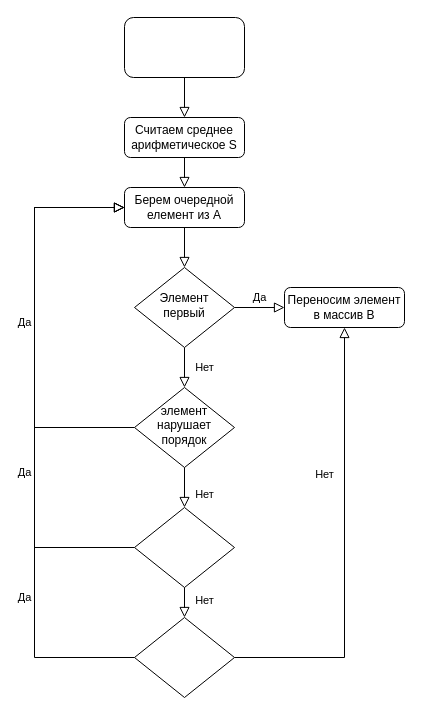
This 422x715 diagram has some shape labels left out. Here are the shapes that lost their labels. From the top down, the centre of each, then its label:
the point at 184,47: Генерируем случайный массив A
the point at 184,547: элемент больше S
the point at 184,657: элемент четный
